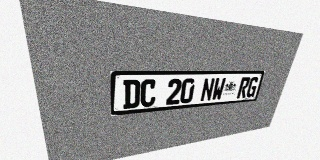0: (179, 78, 195, 104)
2: (166, 78, 182, 105)
C: (140, 79, 157, 107)
D: (123, 79, 140, 109)
G: (245, 77, 259, 98)
N: (200, 78, 215, 102)
R: (236, 77, 251, 98)
W: (211, 78, 226, 101)
